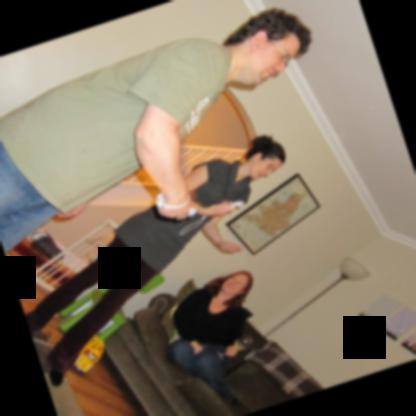backpack: (29, 230, 66, 261)
